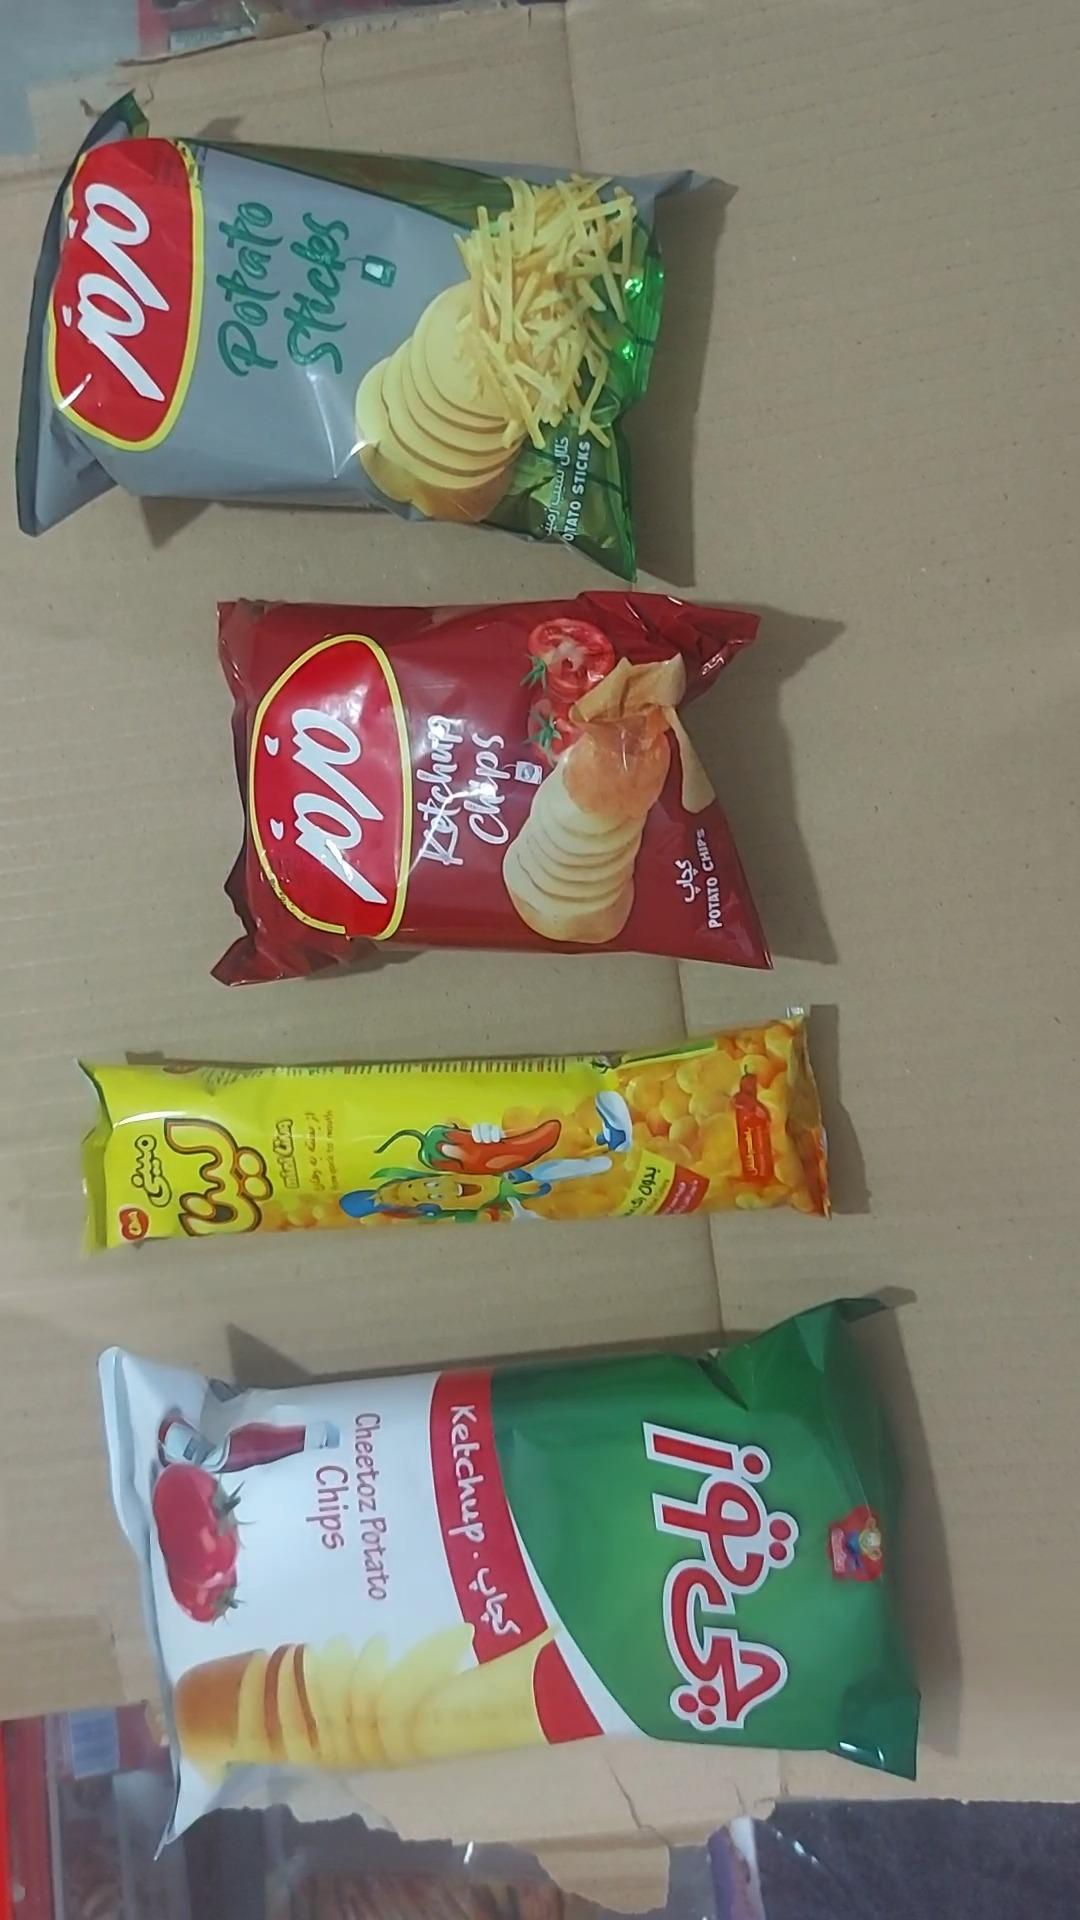Cheetoz ketchup chips: (96, 1298, 919, 1859)
Maz Maz ketchup chips: (211, 591, 774, 989)
Maz Maz potato sticks: (15, 94, 728, 583)
Mini Lina: (76, 1007, 832, 1262)
